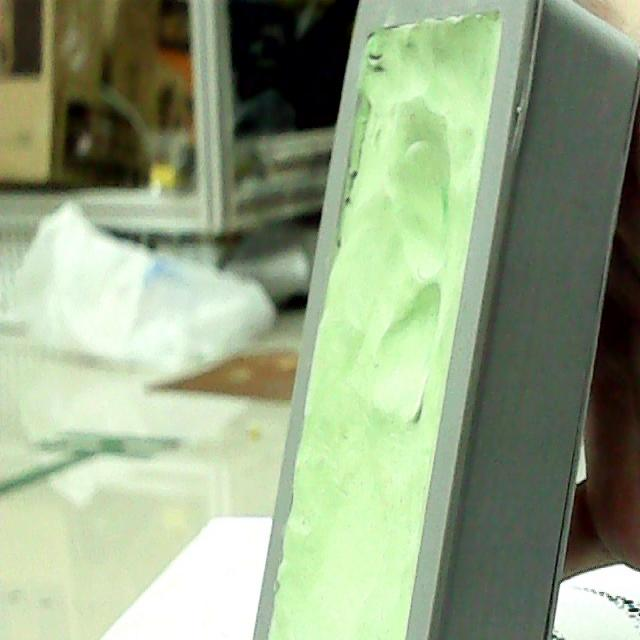block: (241, 0, 638, 640)
